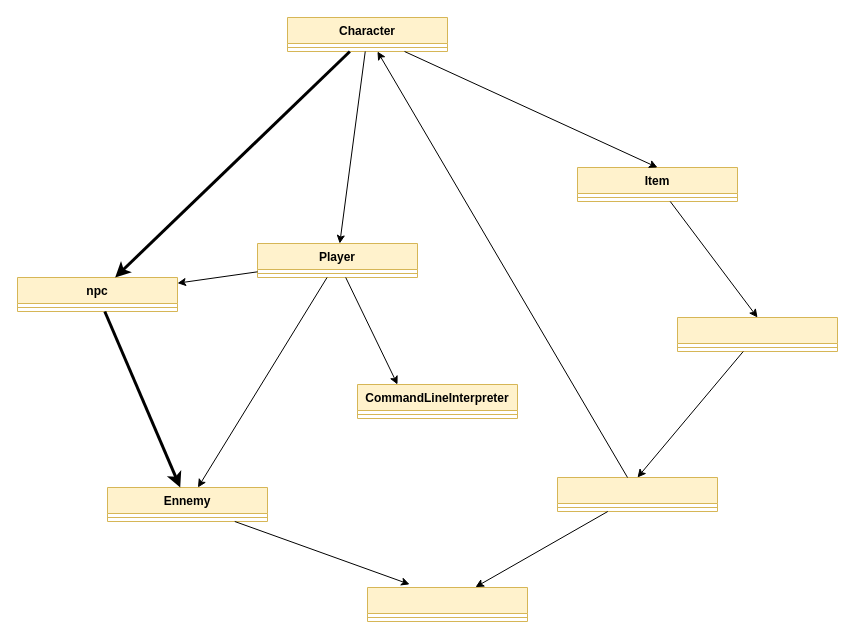
The diagram is 855 pixels wide and 639 high, and some of its shapes have lost their labels. Each missing label, with the box of its shape:
Area: (366, 586, 528, 622)
Inventory: (676, 316, 838, 352)
Room: (556, 476, 718, 512)
